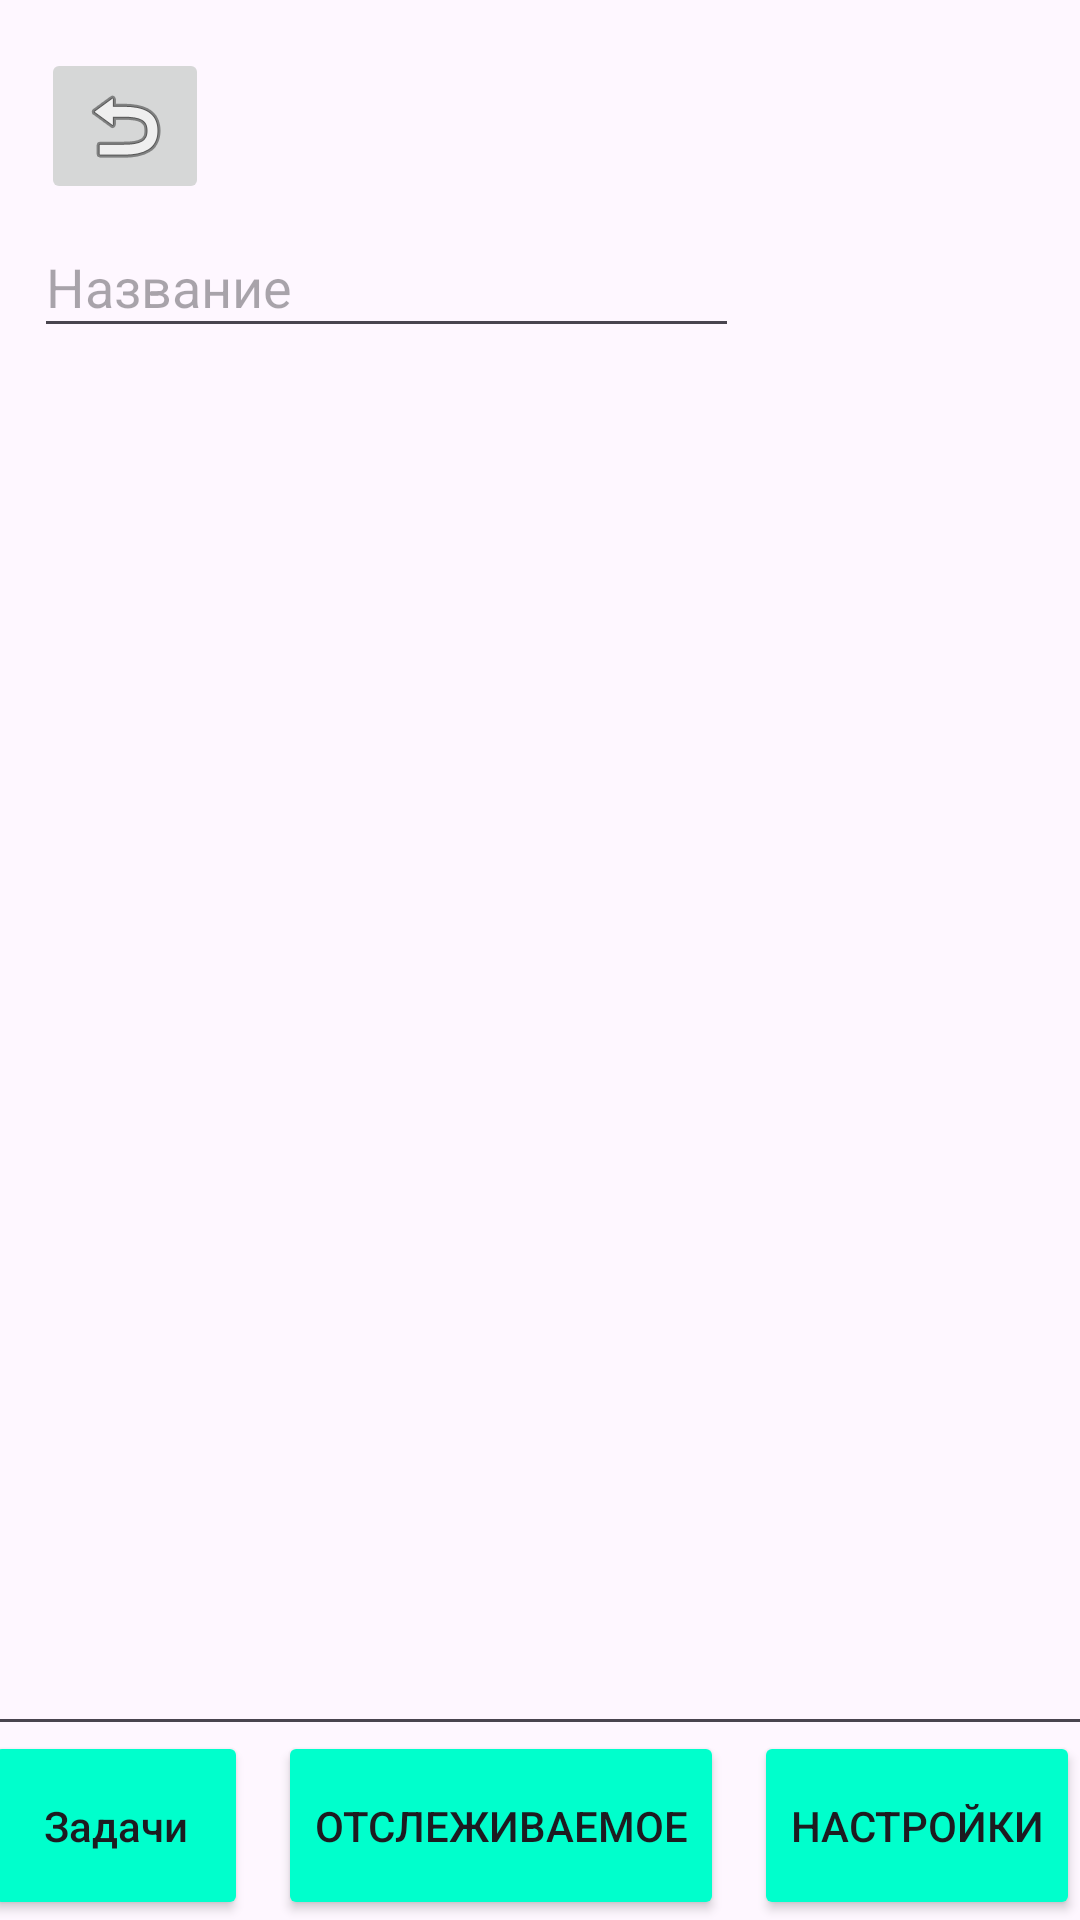

Locate icon controls on the screen. Image size 1080x1920, boxes as (x1, y1, x2, y2).
revert: (53, 66, 197, 186)
